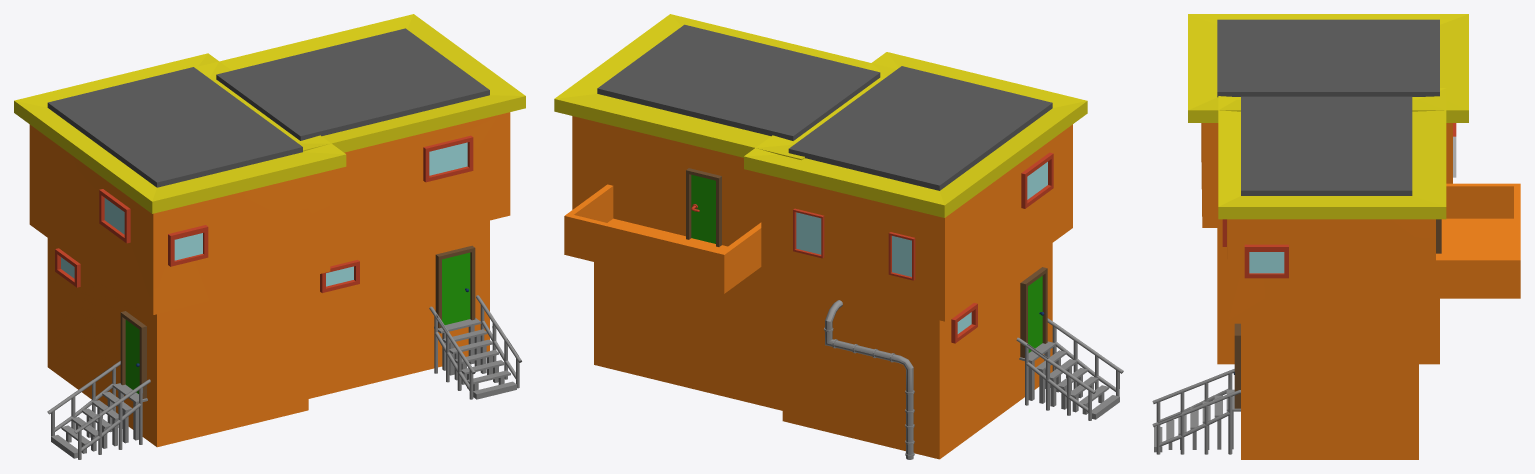
Rendered from Combo favela small 1.fbx.
The picture shows the model from 3 angles, left to right: view 1: azimuth 30°, elevation 25°; view 2: azimuth 150°, elevation 25°; view 3: azimuth 270°, elevation 25°; orthographic projection. The views are drawn at different scales.
Visible parts, largest first — view 1: Small_Favelahouse.017, Small_Favelahouse.001; view 2: Small_Favelahouse.017, Small_Favelahouse.001; view 3: Small_Favelahouse.001, Small_Favelahouse.017.
Boxes of the visible parts, x1,y1,x2,y2 form: Small_Favelahouse.017: [14, 53, 346, 459]; Small_Favelahouse.001: [195, 14, 525, 399]; Small_Favelahouse.017: [744, 52, 1123, 459]; Small_Favelahouse.001: [554, 14, 896, 410]; Small_Favelahouse.001: [1152, 88, 1520, 459]; Small_Favelahouse.017: [1188, 14, 1468, 364].
Bounding box in the file's own units: 1801 × 1026 × 1269.
